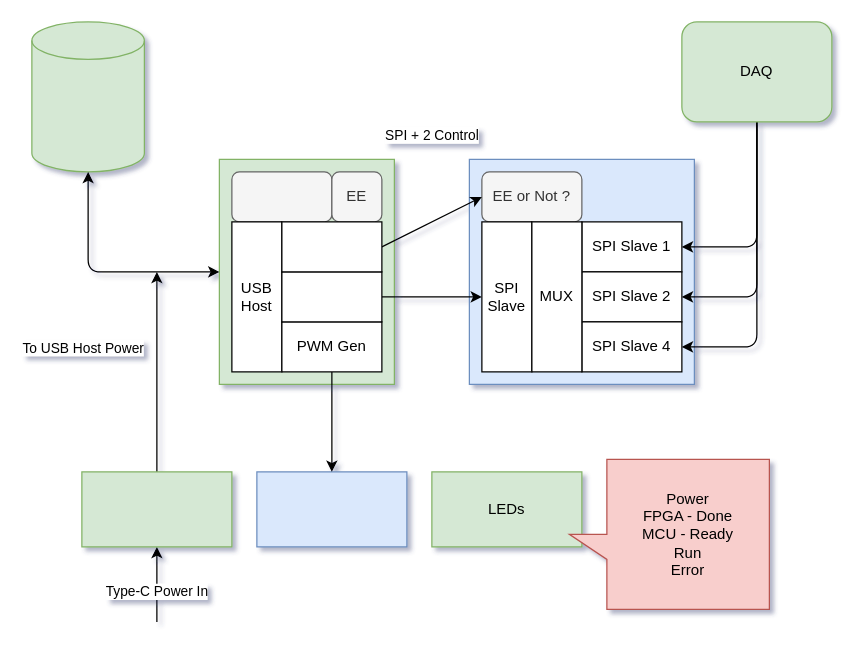
Some shapes in this 861 by 661 pixel diagram are drawn without their labels. Here are the shapes that lost their labels. From the top down, the centre of each, then its label:
At (87,96): "Commutator".
At (281,196): "Boot/Reset".
At (331,246): "Program ICE".
At (331,296): "Data SPI".
At (156,509): "Power to USB Host".
At (331,509): "PWM Analog Filter".
